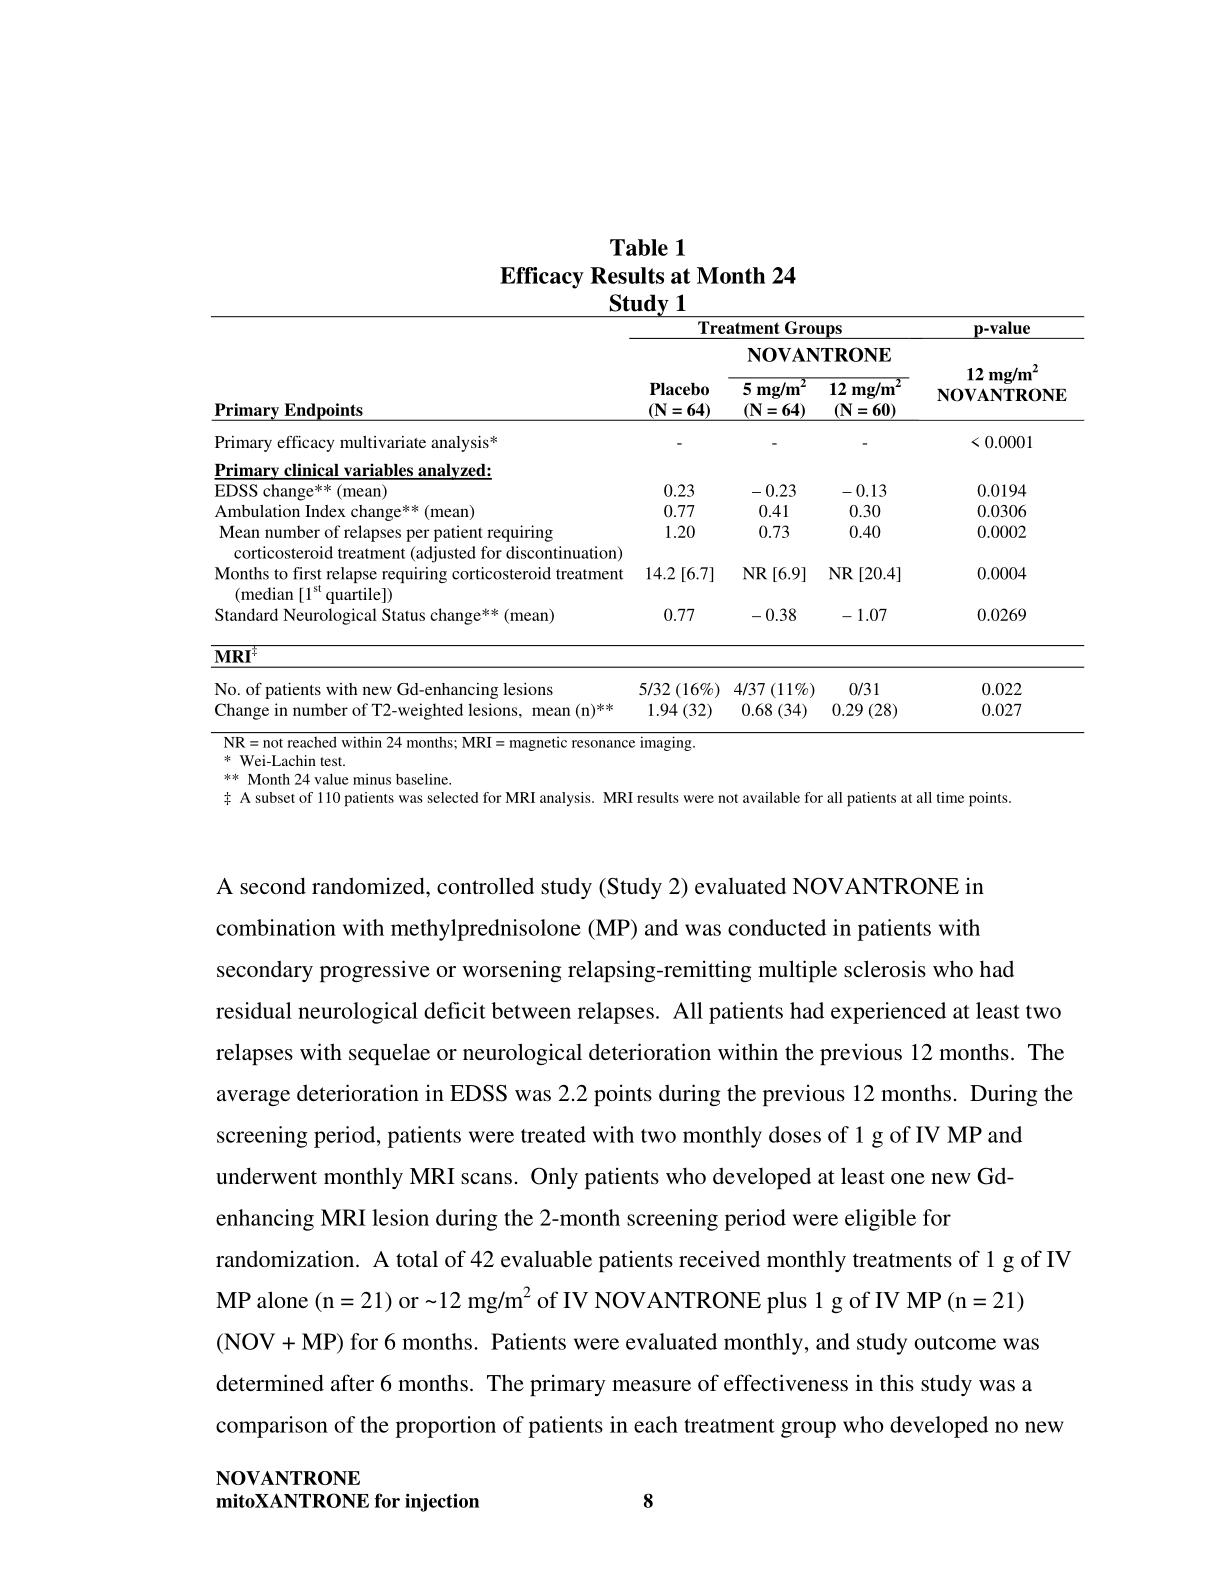partial_lined_merged_cells: (210, 312, 1088, 735)
